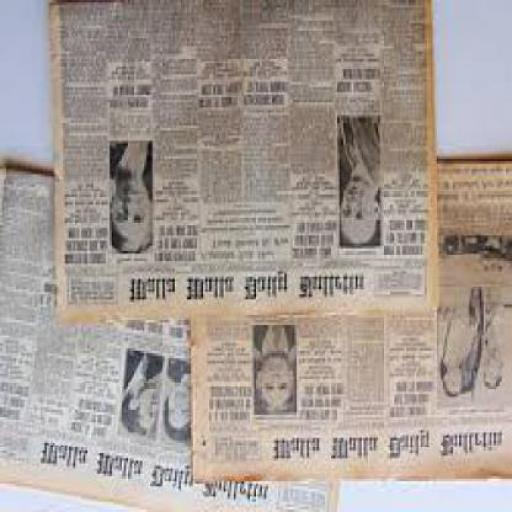paper: (54, 2, 432, 328), (0, 168, 337, 510), (189, 166, 510, 486)
